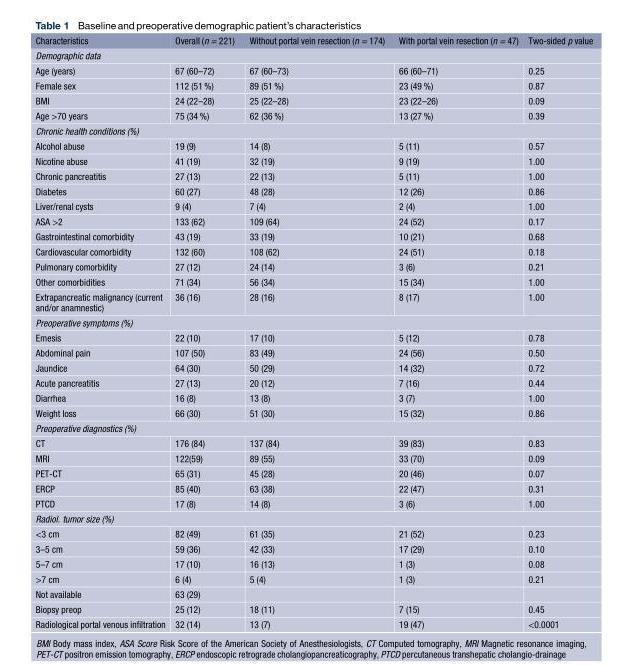table: (34, 34, 592, 629)
table column: (241, 34, 391, 629), (34, 34, 169, 629), (391, 34, 522, 629), (169, 34, 241, 629), (522, 34, 592, 629)
table column header: (34, 34, 592, 47)
table projected row header: (34, 47, 592, 62), (34, 122, 592, 137), (34, 314, 592, 329), (34, 420, 592, 435), (34, 510, 592, 525)
table row: (34, 288, 592, 314), (34, 152, 592, 168), (34, 404, 592, 420), (34, 570, 592, 586), (34, 47, 592, 62), (34, 62, 592, 77), (34, 77, 592, 92), (34, 92, 592, 107), (34, 107, 592, 122), (34, 122, 592, 137), (34, 137, 592, 152), (34, 168, 592, 183), (34, 183, 592, 198), (34, 198, 592, 213), (34, 213, 592, 228), (34, 228, 592, 243), (34, 243, 592, 258), (34, 258, 592, 273), (34, 273, 592, 288), (34, 314, 592, 329), (34, 329, 592, 344), (34, 344, 592, 359), (34, 359, 592, 374), (34, 374, 592, 389), (34, 389, 592, 404), (34, 420, 592, 435), (34, 435, 592, 450), (34, 450, 592, 465), (34, 465, 592, 480), (34, 480, 592, 495), (34, 495, 592, 510), (34, 510, 592, 525), (34, 525, 592, 540), (34, 540, 592, 555), (34, 555, 592, 570), (34, 586, 592, 601), (34, 601, 592, 616), (34, 34, 592, 47), (34, 616, 592, 629)
